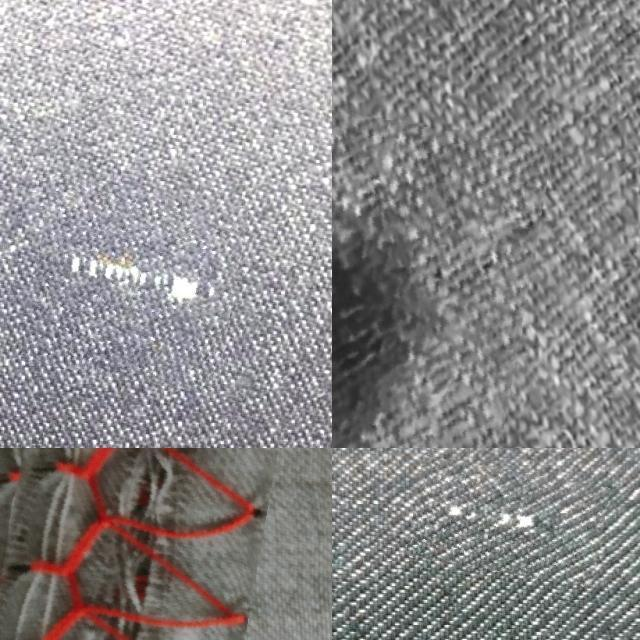Thread_out: (0, 448, 252, 640)
other: (332, 95, 536, 448)
stains: (28, 182, 242, 388), (409, 463, 606, 581)
